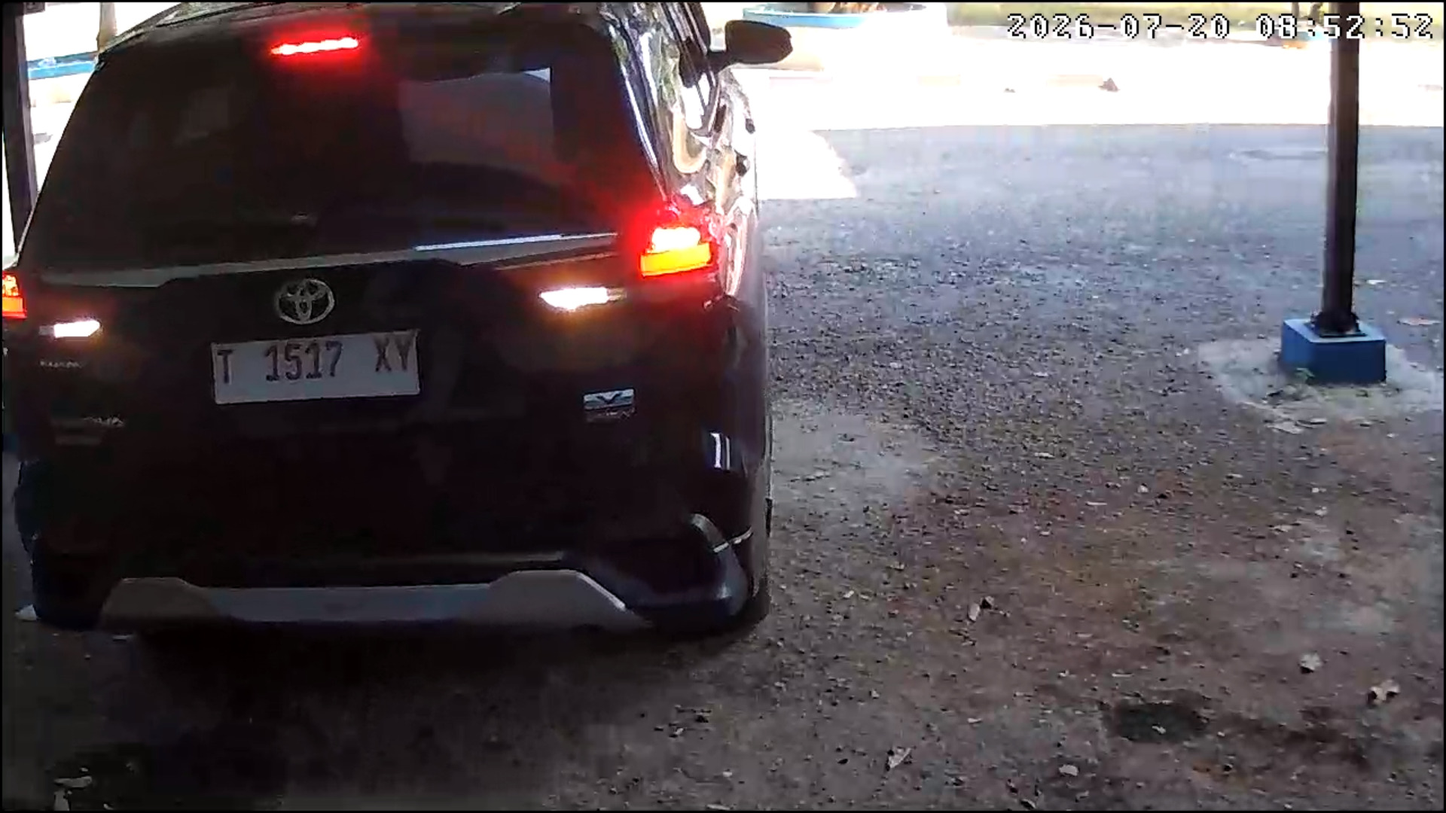plat nomor: (206, 330, 425, 414)
